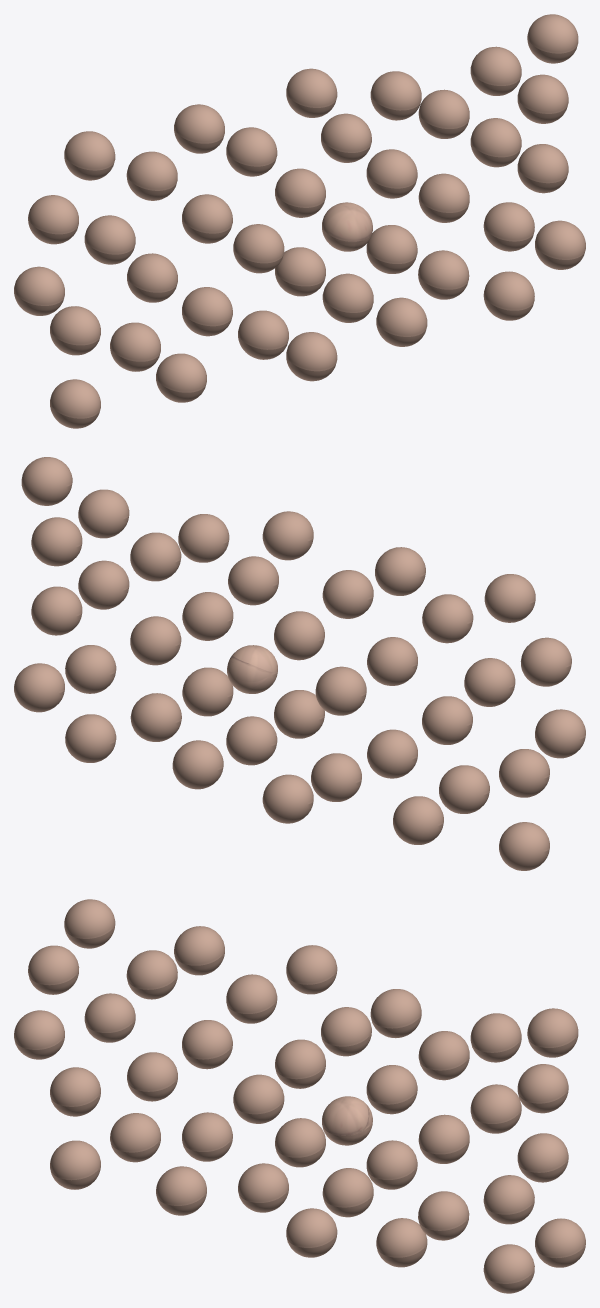
The model's file is eye.glb.
3 renders of one model, top to bottom at view 1: azimuth 30°, elevation 25°; view 2: azimuth 150°, elevation 25°; view 3: azimuth 330°, elevation 25°, orthographic.
Parts seen in each view (by area): view 1: Eyelid_1.005, Eyelid_1.038, Eyelid_1.013, Eyelid_1.027, Eyelid_1.014, Eyelid_1.025, Eyelid_1.001, Eyelid_1.009, Eyelid_1.021, Eyelid_1.022, Eyelid_1.017, Eyelid_1.029 (+26 smaller); view 2: Eyelid_1.029, Eyelid_1.024, Eyelid_1.034, Eyelid_1.026, Eyelid_1.025, Eyelid_1.012, Eyelid_1.014, Eyelid_1.028, Eyelid_1.010, Eyelid_1.027, Eyelid_1.035, Eyelid_1.001 (+26 smaller); view 3: Eyelid_1.004, Eyelid_1.038, Eyelid_1.021, Eyelid_1.029, Eyelid_1.034, Eyelid_1.014, Eyelid_1.010, Eyelid_1.028, Eyelid_1.001, Eyelid_1.009, Eyelid_1.012, Eyelid_1.026 (+26 smaller).
Boxes of the visible parts, box(x1,y1,x2,y2) form: Eyelid_1.005: box(366, 149, 417, 198); Eyelid_1.038: box(527, 14, 578, 63); Eyelid_1.013: box(418, 173, 469, 222); Eyelid_1.027: box(370, 71, 421, 120); Eyelid_1.014: box(322, 273, 373, 322); Eyelid_1.025: box(286, 332, 337, 381); Eyelid_1.001: box(233, 224, 284, 273); Eyelid_1.009: box(226, 127, 277, 176); Eyelid_1.021: box(84, 215, 135, 264); Eyelid_1.022: box(483, 202, 534, 251); Eyelid_1.017: box(110, 322, 160, 371); Eyelid_1.029: box(470, 118, 521, 167); Eyelid_1.029: box(78, 560, 129, 609); Eyelid_1.024: box(172, 740, 223, 789); Eyelid_1.034: box(31, 586, 82, 635); Eyelid_1.026: box(262, 511, 313, 560); Eyelid_1.025: box(262, 774, 313, 823); Eyelid_1.012: box(130, 532, 181, 581); Eyelid_1.014: box(226, 716, 277, 765); Eyelid_1.028: box(78, 489, 129, 538); Eyelid_1.010: box(422, 594, 473, 643); Eyelid_1.027: box(178, 514, 229, 562); Eyelid_1.035: box(31, 517, 82, 566); Eyelid_1.001: box(315, 666, 366, 715); Eyelid_1.004: box(366, 1140, 417, 1189); Eyelid_1.038: box(527, 1008, 578, 1057); Eyelid_1.021: box(84, 993, 135, 1042); Eyelid_1.029: box(470, 1084, 521, 1133); Eyelid_1.034: box(517, 1133, 568, 1182); Eyelid_1.014: box(322, 1168, 373, 1217); Eyelid_1.010: box(126, 950, 177, 999); Eyelid_1.028: box(470, 1013, 521, 1062); Eyelid_1.001: box(233, 1074, 284, 1123); Eyelid_1.009: box(226, 974, 277, 1023); Eyelid_1.012: box(418, 1031, 469, 1080); Eyelid_1.026: box(286, 945, 337, 994).
Bounding box in the file's own units: 28.46 × 14.79 × 2.34.
Materials: 153 (39 with a texture image).
